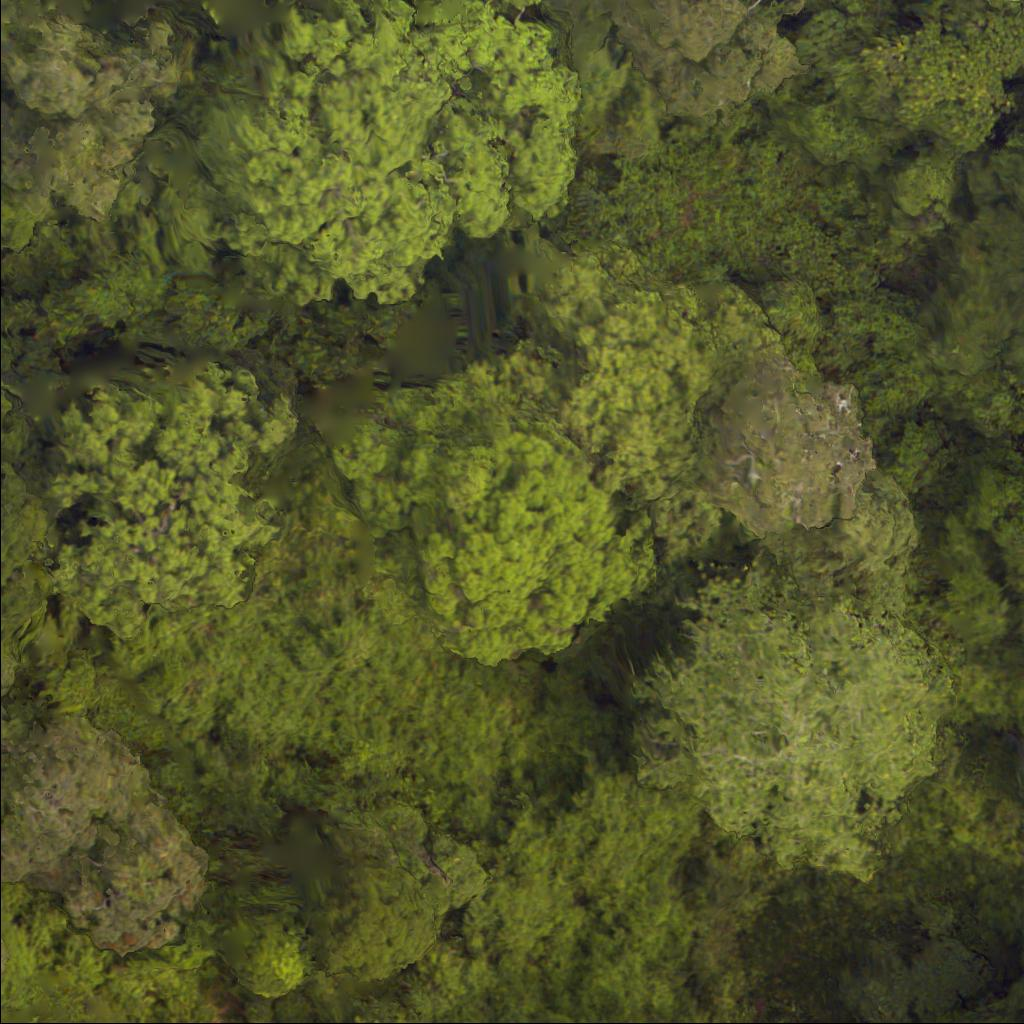crown: (214, 0, 605, 285), (1, 340, 286, 659), (640, 604, 942, 893), (384, 452, 637, 689), (711, 362, 907, 552), (595, 0, 828, 138)
